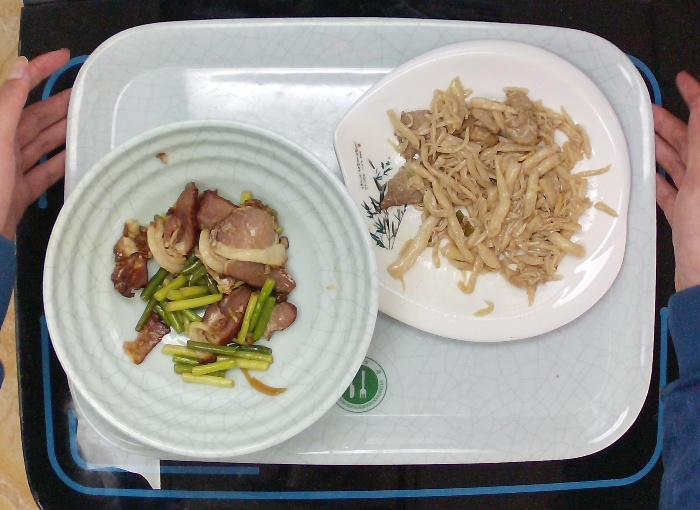JYsf-Da_Tang_Wan: (37, 113, 384, 462)
JYsf-Mian_Pan: (328, 36, 637, 346)
